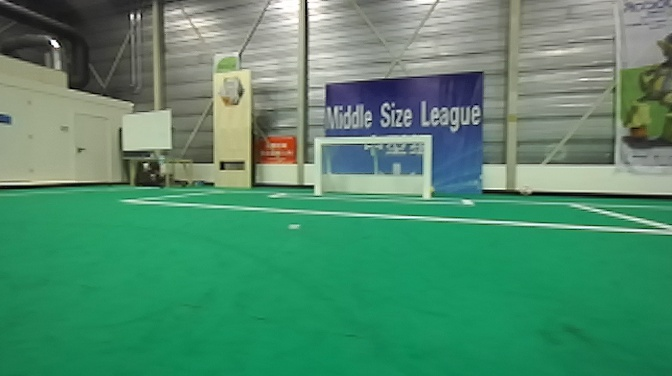goalpost: (309, 137, 330, 200), (417, 133, 432, 204)
